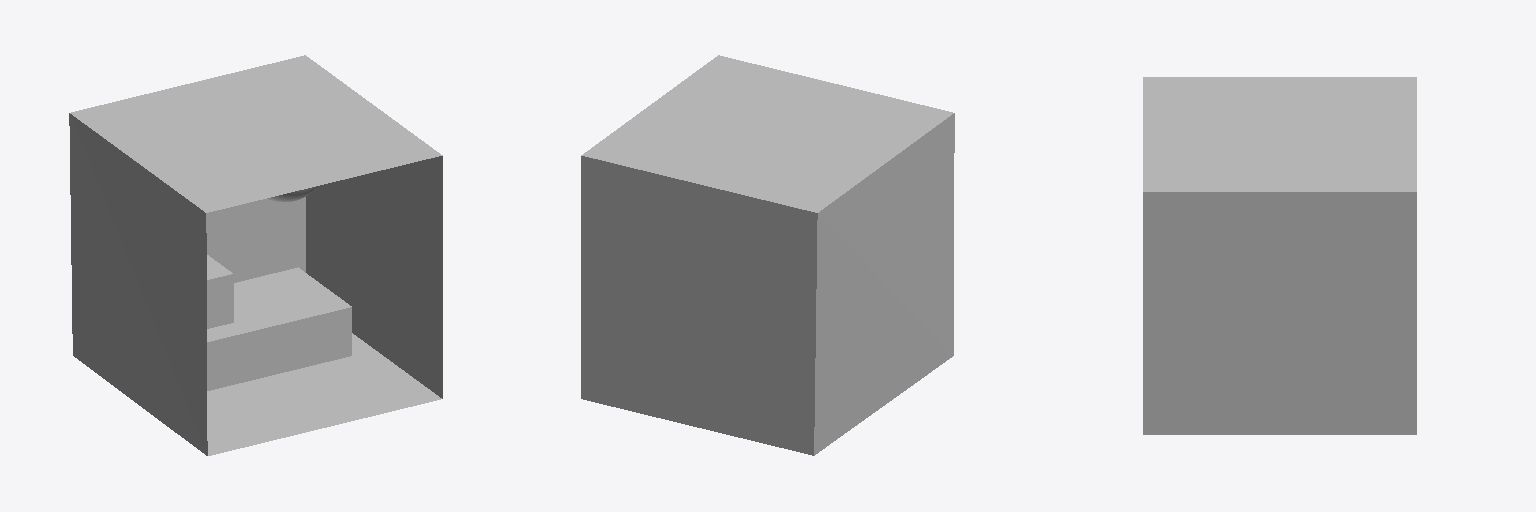
Rendered from CornellBox-Sphere-Table.obj.
3 views of the same model, side by side, from view 1: azimuth 30°, elevation 25°; view 2: azimuth 150°, elevation 25°; view 3: azimuth 270°, elevation 25° (orthographic).
Visible parts, largest first — view 1: CornellBox-Empty-RG, Table_Cube.002, Box_Cube.003; view 2: CornellBox-Empty-RG; view 3: CornellBox-Empty-RG.
Boxes of the visible parts, box(x1,y1,x2,y2) form: CornellBox-Empty-RG: box(69, 55, 442, 455); Table_Cube.002: box(207, 267, 351, 390); Box_Cube.003: box(207, 255, 233, 328); CornellBox-Empty-RG: box(581, 55, 954, 455); CornellBox-Empty-RG: box(1143, 77, 1416, 434).
Size of the model in its own units: 2.02 by 1.99 by 2.03.